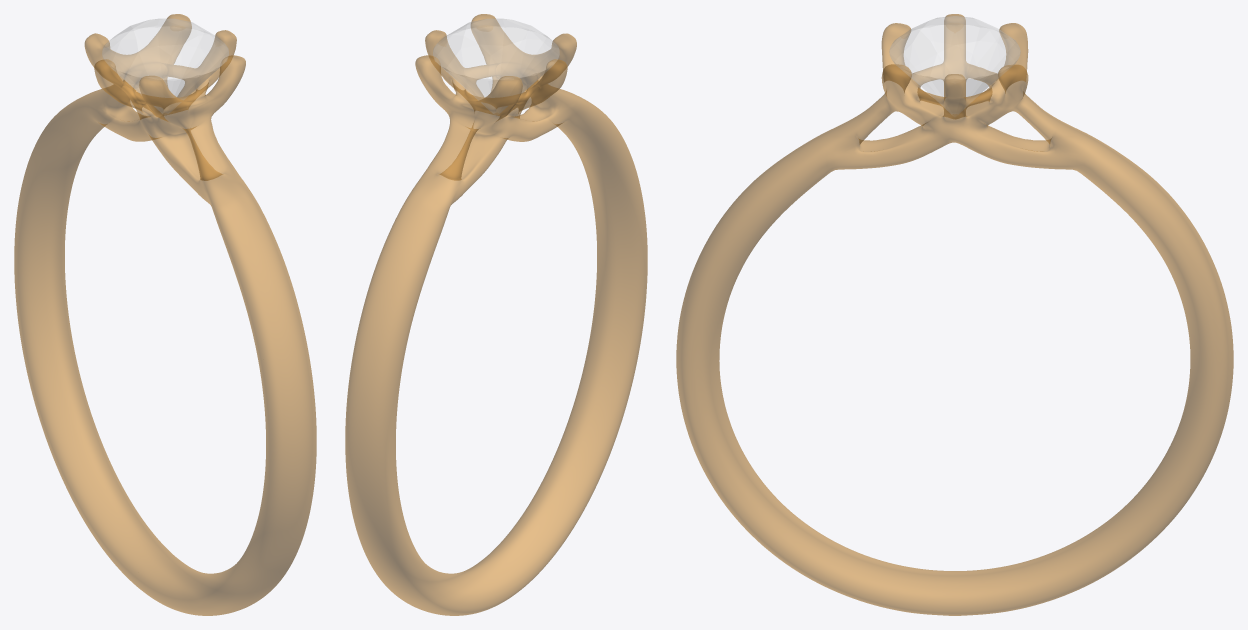
3 views of the same model, side by side, from view 1: azimuth 30°, elevation 25°; view 2: azimuth 150°, elevation 25°; view 3: azimuth 270°, elevation 25° (orthographic). The views are drawn at different scales.
Visible parts, largest first — view 1: VR007; view 2: VR007; view 3: VR007.
Boxes of the visible parts, x1,y1,x2,y2 form: VR007: [14, 14, 316, 615]; VR007: [345, 14, 647, 615]; VR007: [676, 14, 1233, 615].
Size of the model in its own units: 0.6776 by 2.67 by 2.32.
